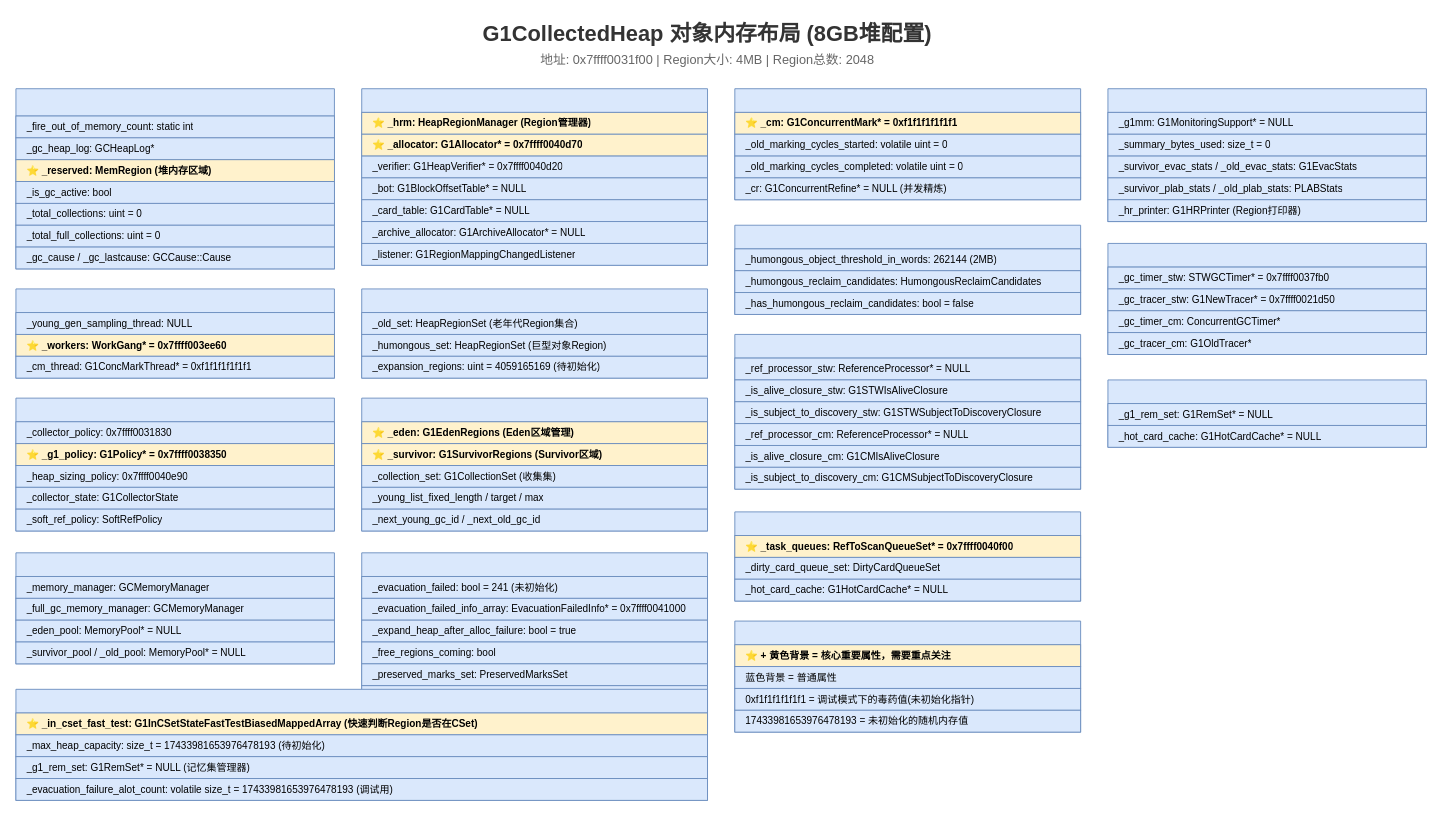
The diagram is 1442 pixels wide and 816 high, and some of its shapes have lost their labels. Each missing label, with the box of its shape:
Region集合管理: (361, 288, 708, 378)
RemSet管理: (1107, 379, 1426, 447)
其他重要字段: (15, 688, 708, 800)
内存池管理: (15, 552, 334, 664)
图例说明: (734, 620, 1081, 732)
失败处理与控制: (361, 552, 708, 729)
巨型对象管理: (734, 224, 1081, 314)
年轻代管理: (361, 397, 708, 531)
并发标记系统: (734, 88, 1081, 200)
并行任务与队列: (734, 511, 1081, 601)
引用处理器 (Reference Processing): (734, 334, 1081, 489)
时间与追踪: (1107, 243, 1426, 354)
核心管理组件: (361, 88, 708, 265)
父类 CollectedHeap (继承): (15, 88, 334, 269)
策略与配置: (15, 397, 334, 531)
线程管理: (15, 288, 334, 378)
统计与监控: (1107, 88, 1426, 222)
